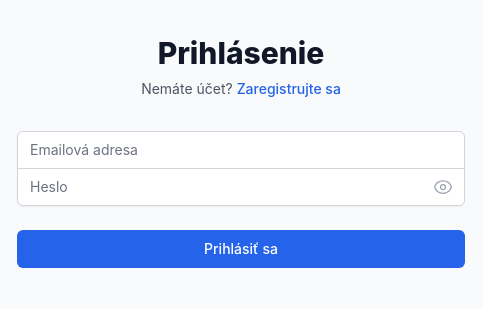
Test: OnboardingWizard › validates required fields on login form
This screenshot has width=483, height=309.
Click the button "Prihlásiť sa" at [241, 248], box [17, 230, 465, 268]
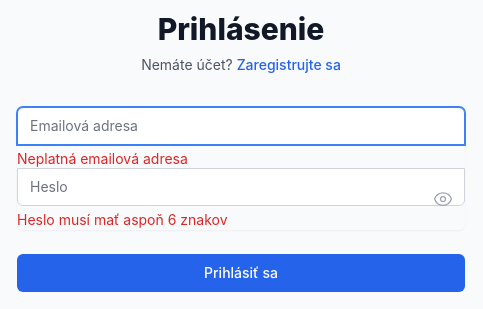
Expected: the text "Neplatná emailová adresa" is shown, [17, 150, 188, 166]
